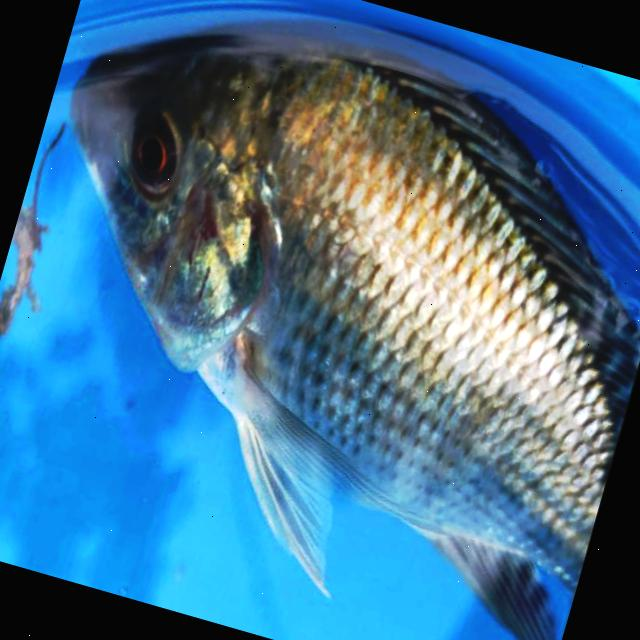Columnaris Disease: (71, 39, 640, 640)
